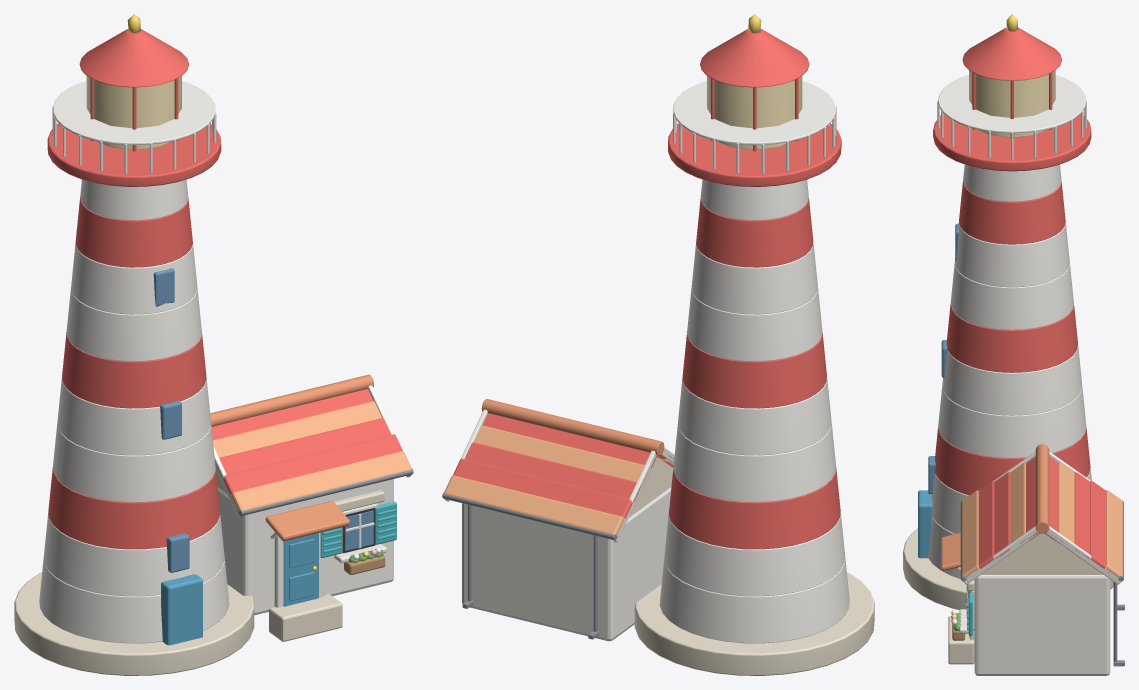
File: lighthouse.fbx
The picture shows the model from 3 angles, left to right: view 1: azimuth 30°, elevation 25°; view 2: azimuth 150°, elevation 25°; view 3: azimuth 270°, elevation 25°; orthographic projection. The views are drawn at different scales.
Visible parts, largest first — view 1: Visual; view 2: Visual; view 3: Visual.
Part boxes in pixels (<box>): Visual: <box>14,14,413,675</box>; Visual: <box>442,14,874,675</box>; Visual: <box>903,14,1124,675</box>.
Size of what is drawn, in the model's own units: 995 by 1680 by 589.
